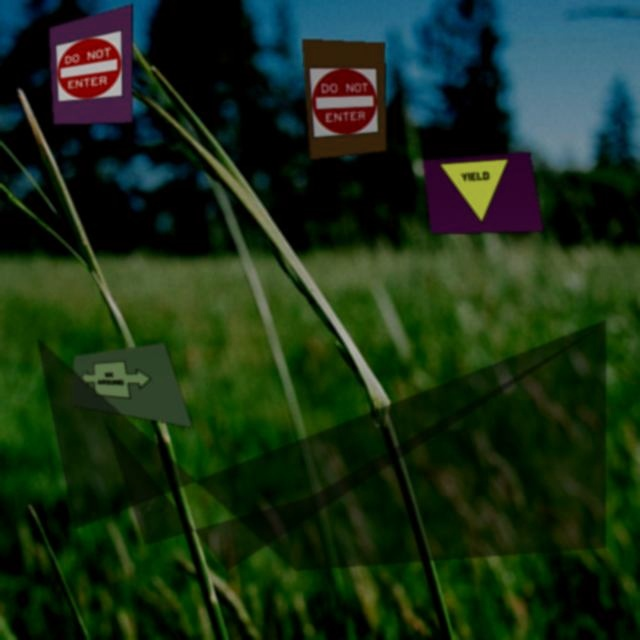DO_NOT_ENTER: (309, 67, 379, 138), (55, 30, 123, 102)
GO_AROUND: (80, 359, 156, 401)
YIELD: (439, 159, 519, 226)
